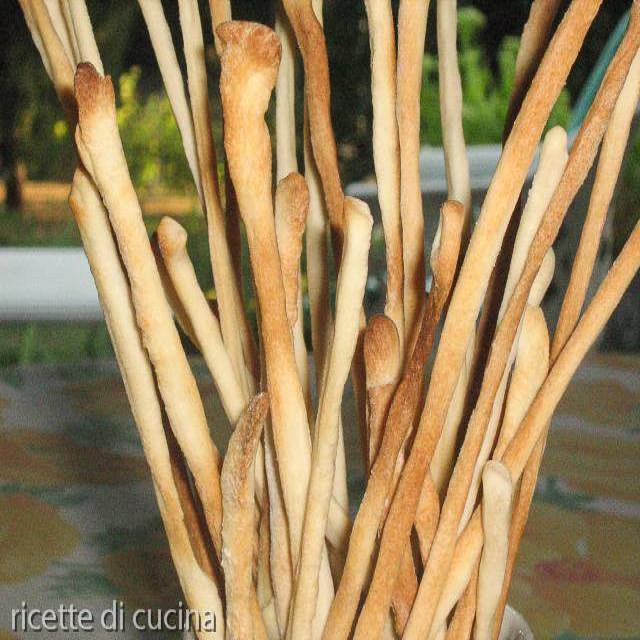Grissini: (22, 3, 631, 621)
